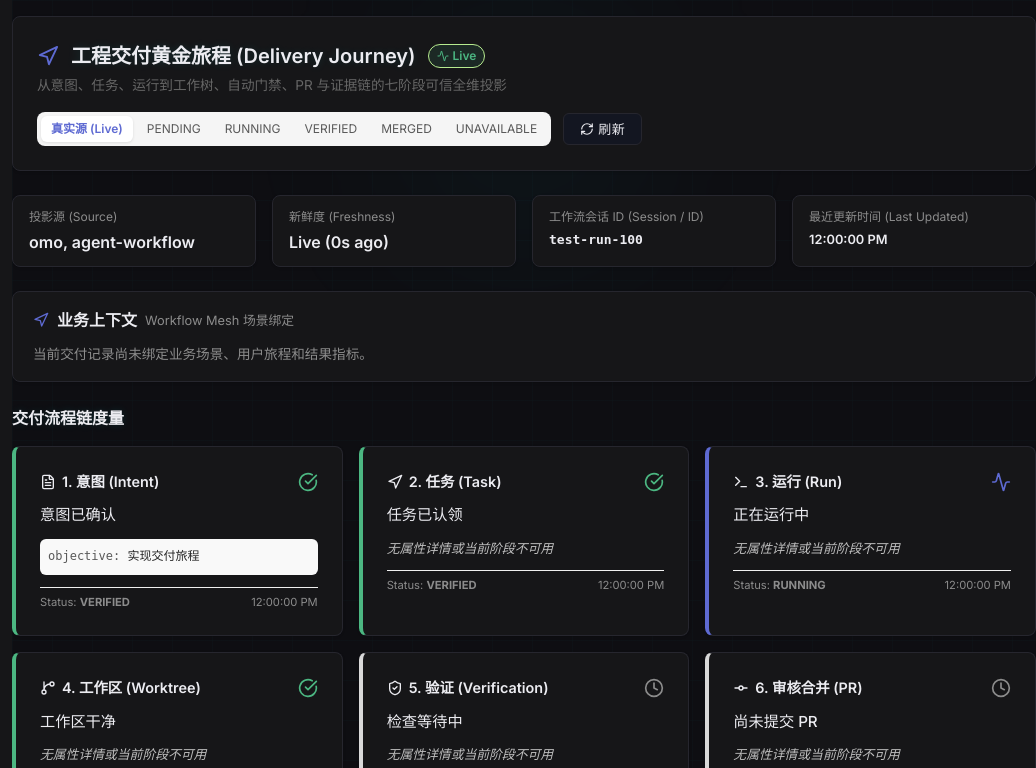
Test: DeliveryJourneyView › switches fixture states when clicking fixture buttons
The width and height of the screenshot is (1036, 768).
Expected: the text "意图已确认" is shown, [40,505,116,524]
Click the button "VERIFIED". click: (331, 129)
box: [295,116,367,142]
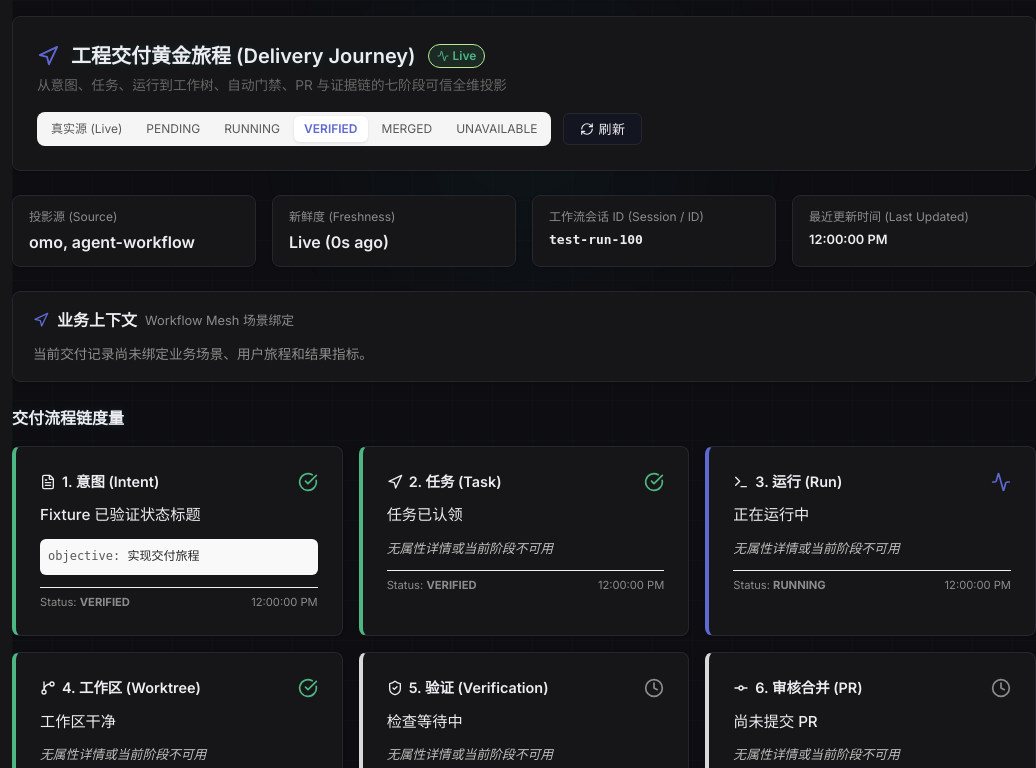
Now the text "Fixture 已验证状态标题" is shown, box [40,505,201,524]
